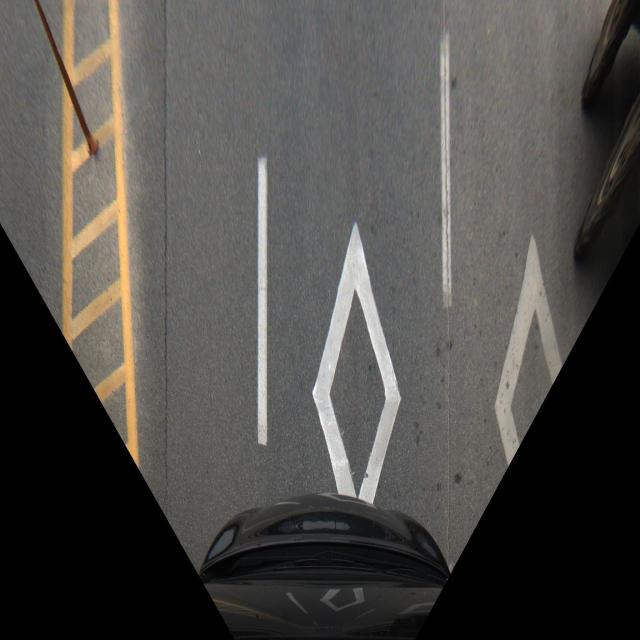diamond: (250, 144, 451, 501)
